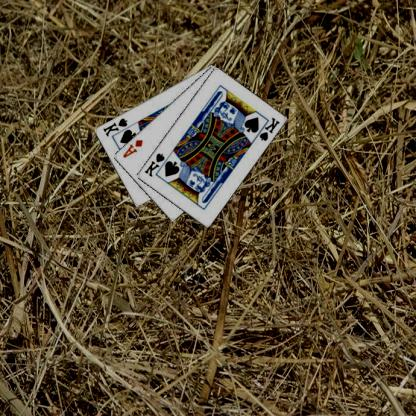AD: (122, 137, 145, 159)
KS: (254, 115, 282, 142), (144, 151, 168, 178), (102, 115, 130, 138)
